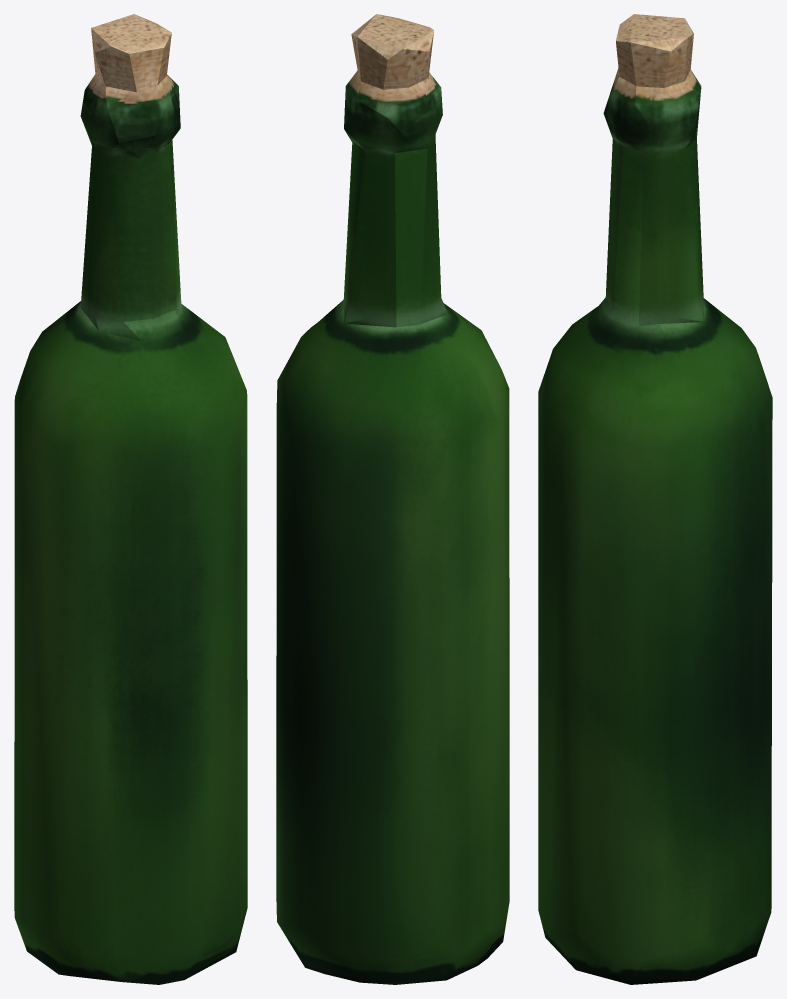
File: bottle_lod0.glb
The picture shows the model from 3 angles, left to right: view 1: azimuth 30°, elevation 25°; view 2: azimuth 150°, elevation 25°; view 3: azimuth 270°, elevation 25°; orthographic projection.
Parts seen in each view (by area): view 1: low; view 2: low; view 3: low.
Boxes of the visible parts, x1,y1,x2,y2 form: low: (14, 14, 247, 984); low: (276, 14, 509, 984); low: (538, 14, 772, 984).
Size of the model in its own units: 0.1499 by 0.649 by 0.15.
Materials: 1 (1 with a texture image).
